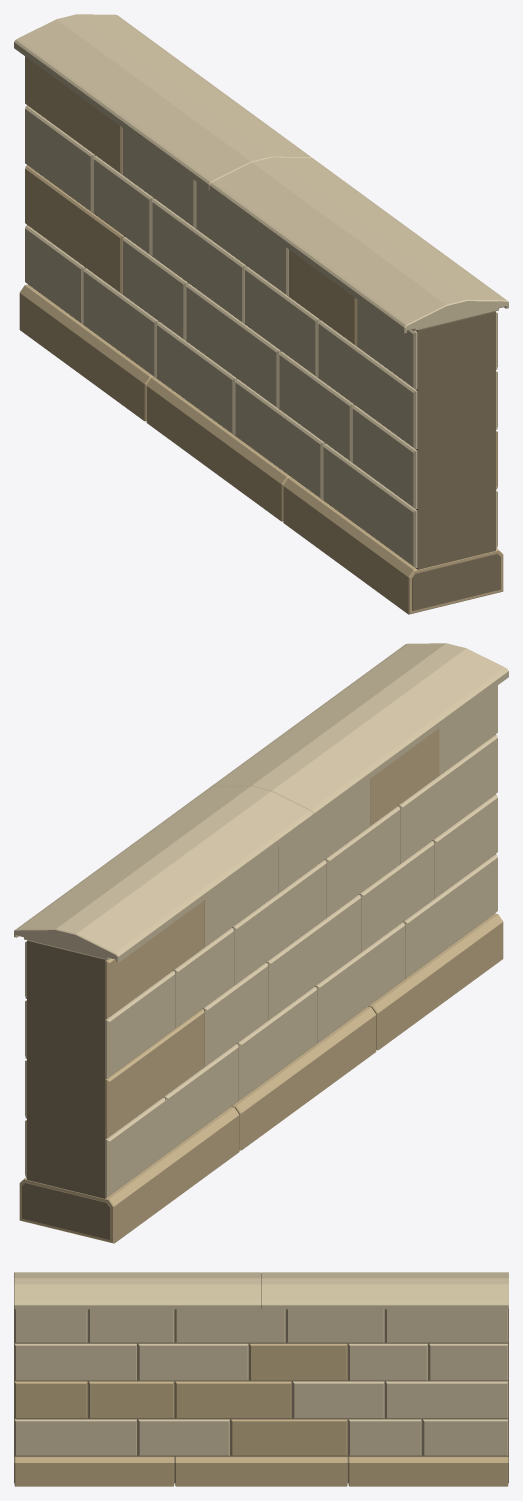
The picture shows the model from 3 angles, top to bottom: view 1: azimuth 30°, elevation 25°; view 2: azimuth 150°, elevation 25°; view 3: azimuth 270°, elevation 25°; orthographic projection. The views are drawn at different scales.
Parts seen in each view (by area): view 1: Mesh_Masonry_Limestone, Mesh_Masonry_Travertine, Mesh_Joints_Mortar; view 2: Mesh_Masonry_Limestone, Mesh_Masonry_Travertine, Mesh_Joints_Mortar; view 3: Mesh_Masonry_Limestone, Mesh_Masonry_Travertine, Mesh_Joints_Mortar.
Part boxes in pixels (<box>): Mesh_Masonry_Limestone: <box>14,14,508,567</box>; Mesh_Masonry_Travertine: <box>19,56,503,614</box>; Mesh_Joints_Mortar: <box>27,105,500,610</box>; Mesh_Masonry_Limestone: <box>14,643,508,1196</box>; Mesh_Masonry_Travertine: <box>19,728,503,1243</box>; Mesh_Joints_Mortar: <box>22,734,495,1239</box>; Mesh_Masonry_Limestone: <box>14,1272,508,1455</box>; Mesh_Masonry_Travertine: <box>14,1343,508,1486</box>; Mesh_Joints_Mortar: <box>14,1309,508,1483</box>.
Size of the model in its own units: 0.62 by 1.7 by 4.
